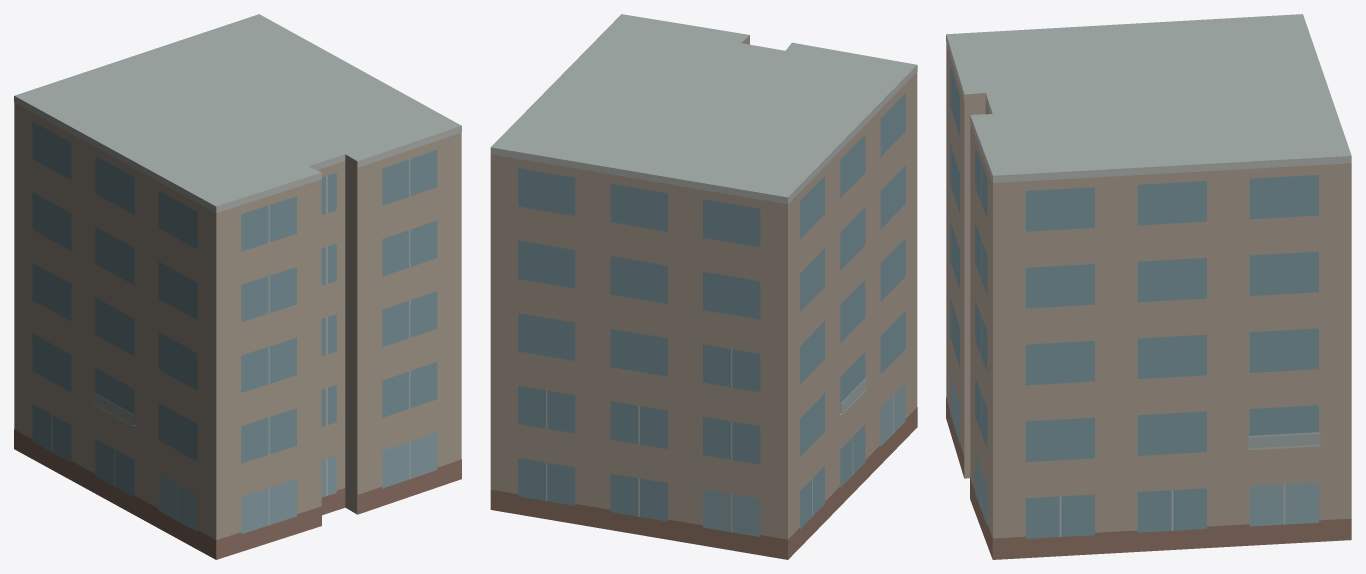
File: survey-upis-32698980.glb
3 renders of one model, left to right at view 1: azimuth 30°, elevation 25°; view 2: azimuth 150°, elevation 25°; view 3: azimuth 270°, elevation 25°, orthographic. The views are drawn at different scales.
Parts seen in each view (by area): view 1: survey-upis-32698980.tmp; view 2: survey-upis-32698980.tmp; view 3: survey-upis-32698980.tmp.
Boxes of the visible parts, x1,y1,x2,y2 form: survey-upis-32698980.tmp: (14,14,461,559); survey-upis-32698980.tmp: (490,14,917,559); survey-upis-32698980.tmp: (946,14,1351,559).
Size of the model in its own units: 11.67 by 12.9 by 12.36.
